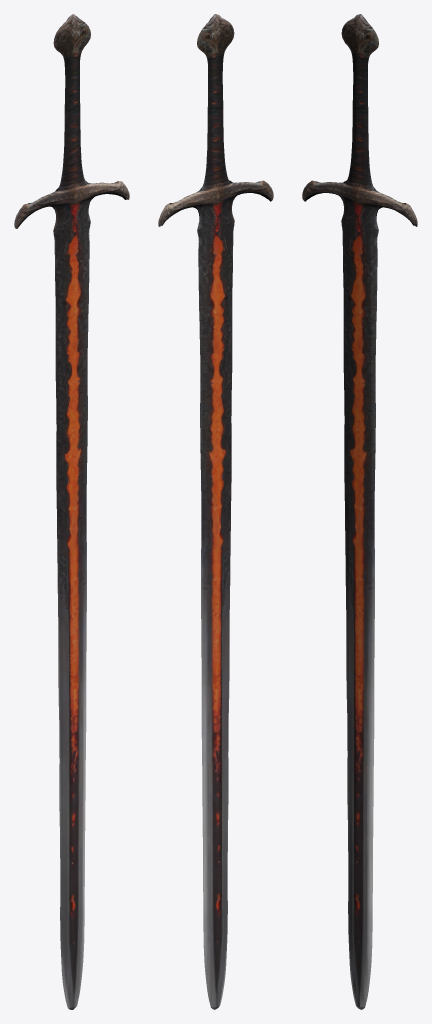
Rendered from scorched_sword.glb.
3 views of the same model, side by side, from view 1: azimuth 30°, elevation 25°; view 2: azimuth 210°, elevation 25°; view 3: azimuth 330°, elevation 25° (orthographic).
Parts seen in each view (by area): view 1: Grid; view 2: Grid; view 3: Grid.
Part boxes in pixels (bbox=[...]): Grid: bbox=[14, 14, 129, 1009]; Grid: bbox=[158, 14, 273, 1009]; Grid: bbox=[302, 14, 417, 1009].
Size of the model in its own units: 0.4698 by 3.87 by 0.044.
Materials: 1 (1 with a texture image).
